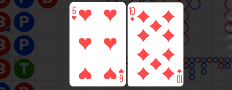10D: (128, 5, 135, 22)
5H: (71, 5, 77, 21)
